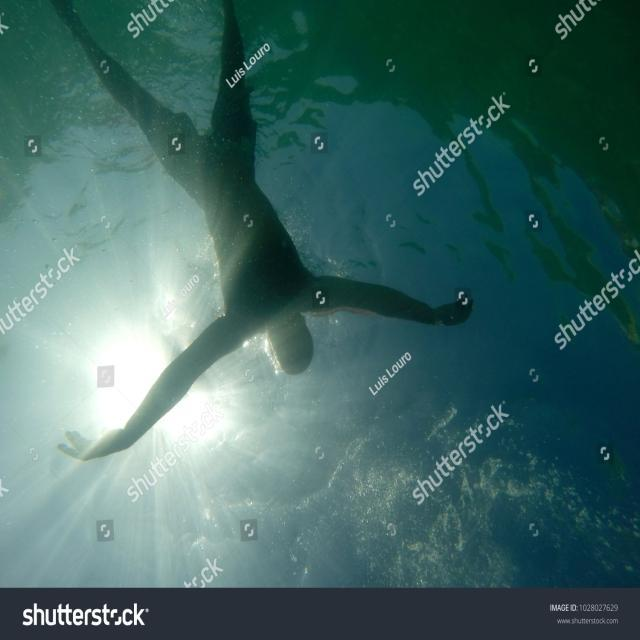Out of Water: (47, 1, 476, 466)
